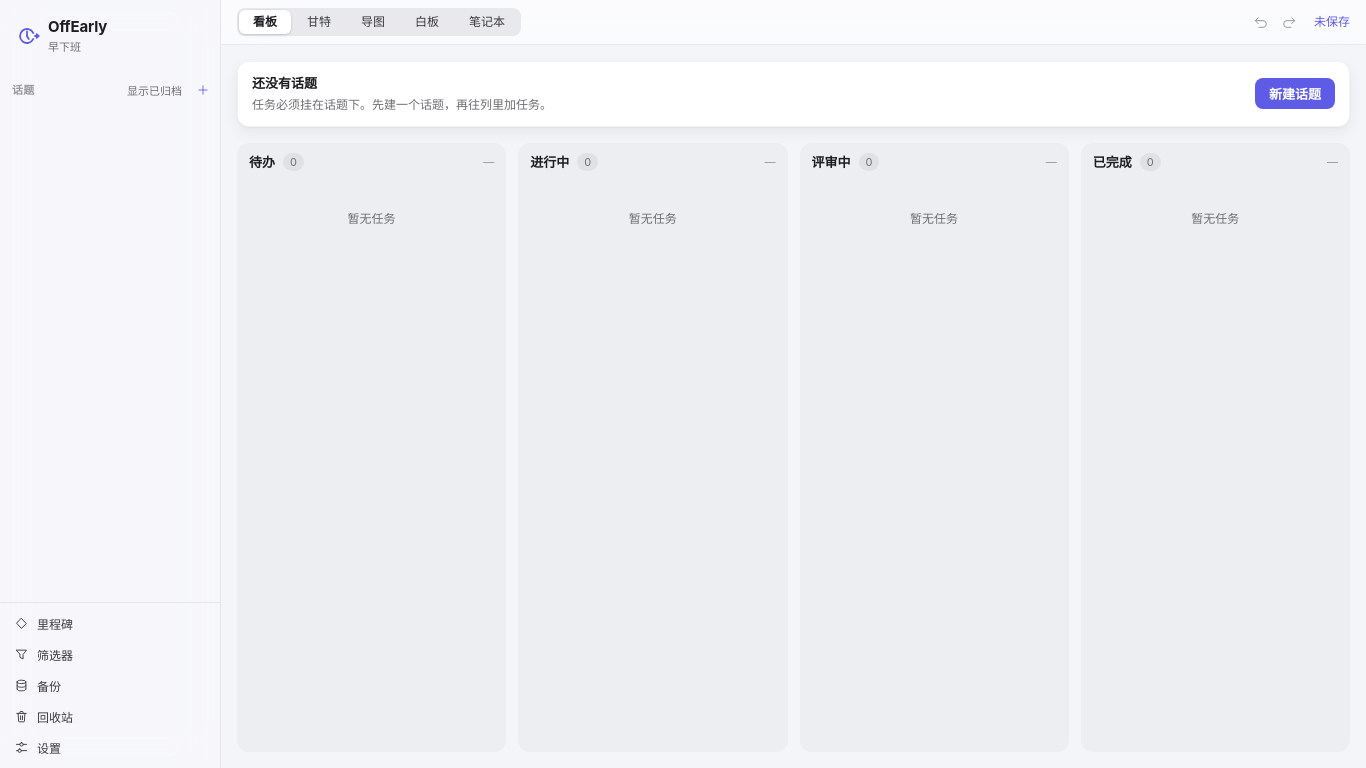
Test: 切换数据文件夹：选过一次之后仍然能再选一个 › 当前库保存失败时拒绝切换并给出提示，不把未落盘数据留在旧库里不管
This screenshot has width=1366, height=768.
Step 1. Click the button with test id "sidebar-open-settings" → point(110, 748), box [6,733,214,762]
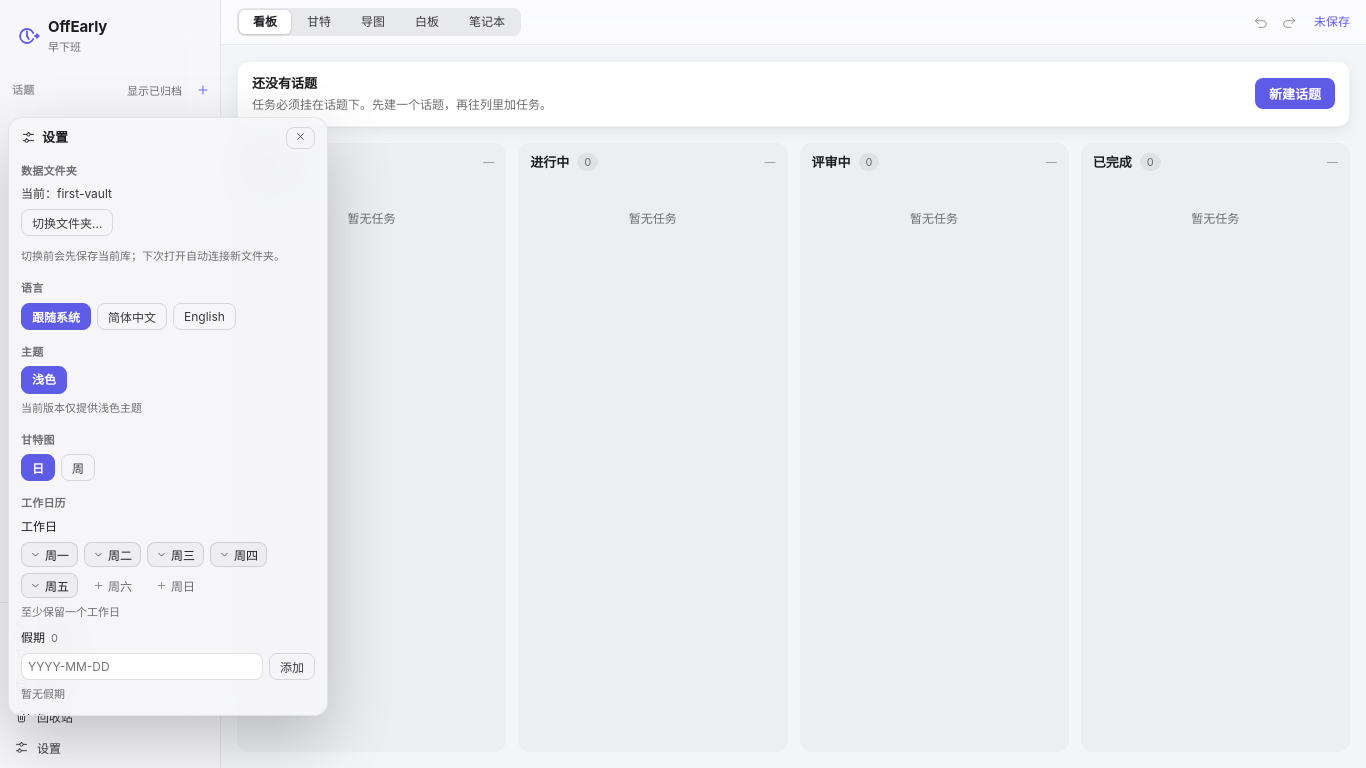
Check: the element with test id "settings-panel" is shown, box [8,117,328,716]
Step 2. Click the button with test id "settings-folder-switch" → point(67, 223), box [21,210,113,236]
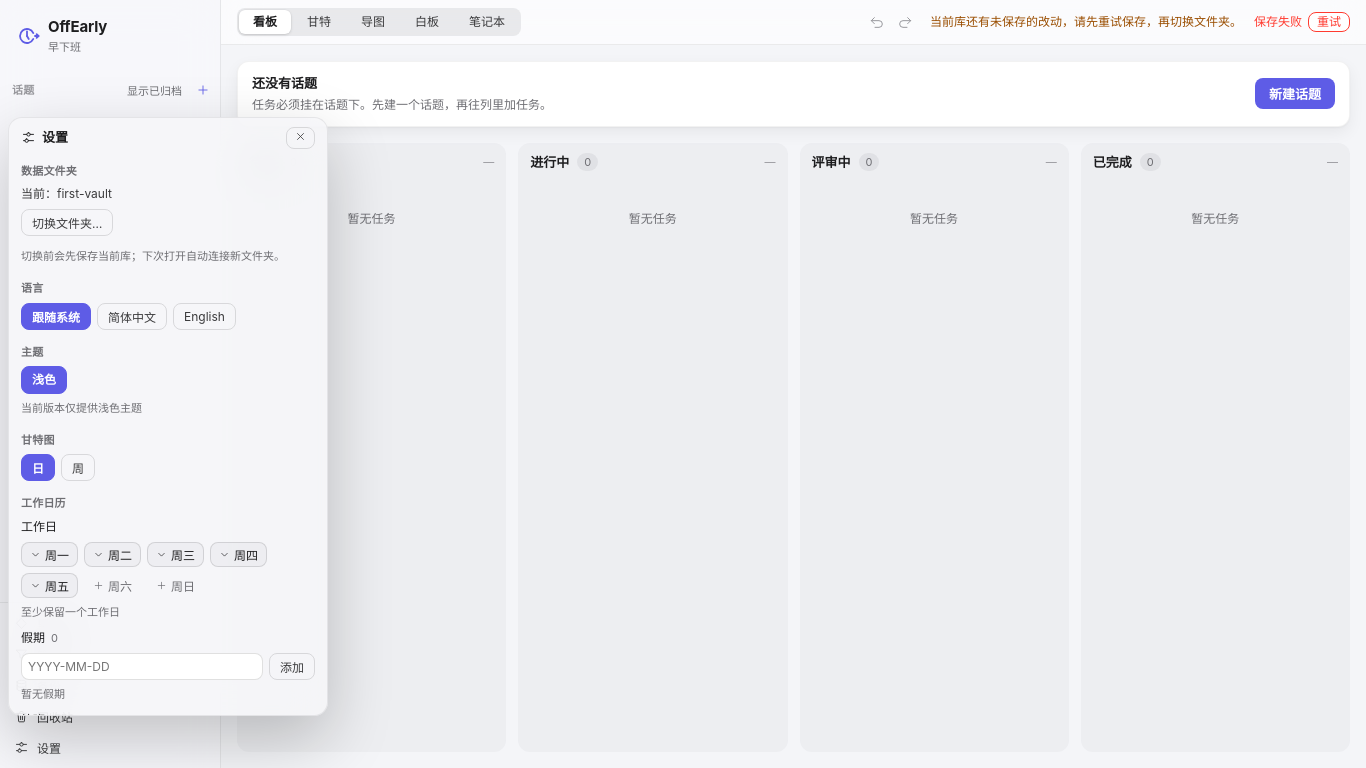
Check: the text with test id "shell-notice" shows "未保存的改动", box [930,14,1242,29]
